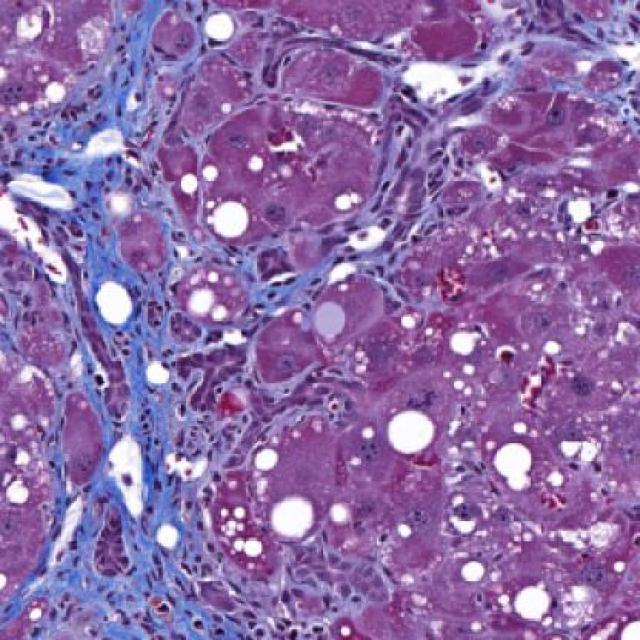fibrosis: (58, 328, 284, 609), (31, 83, 212, 285), (337, 134, 486, 278)
